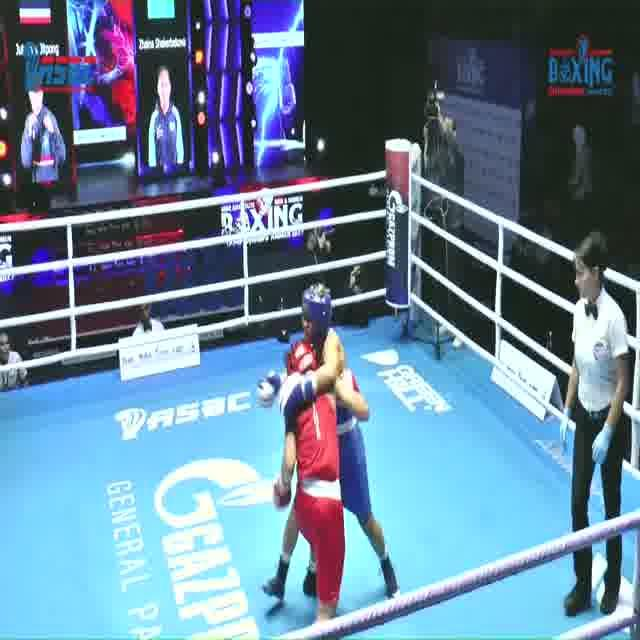blue-player: (254, 280, 406, 609)
red-player: (267, 337, 373, 640)
referee: (556, 229, 634, 620)
